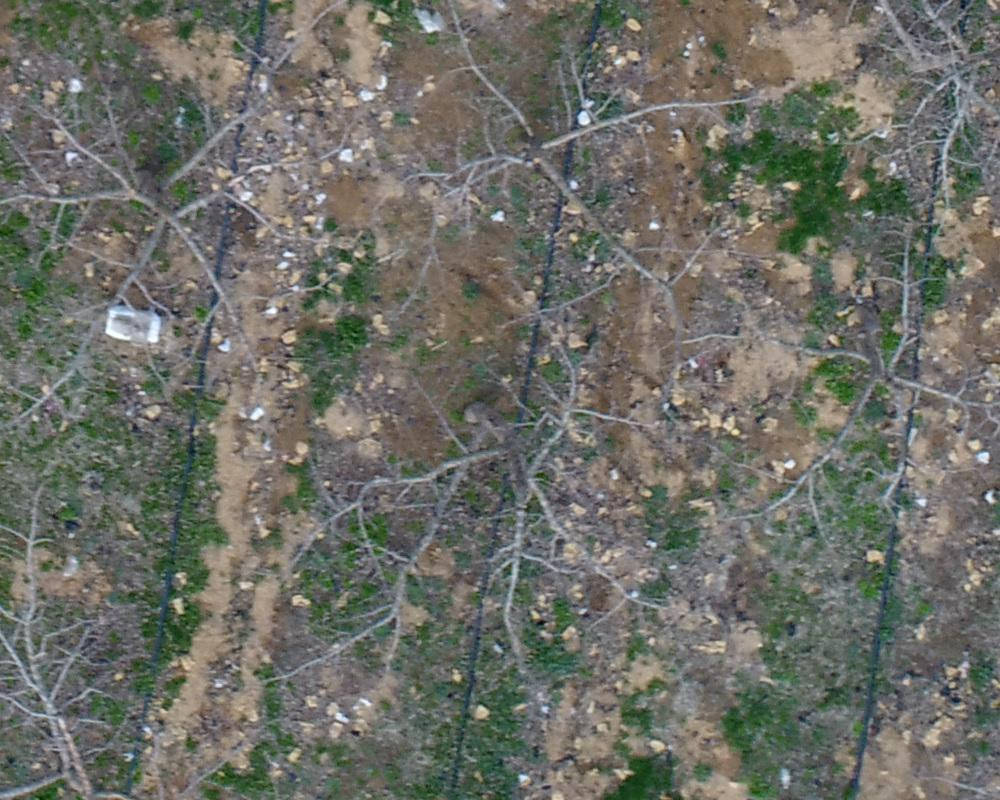apple: (252, 304, 683, 711), (10, 10, 392, 443), (384, 10, 775, 340), (709, 219, 990, 558)
